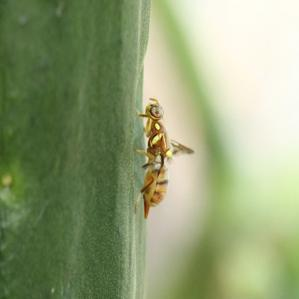melon fly: (109, 81, 204, 224)
